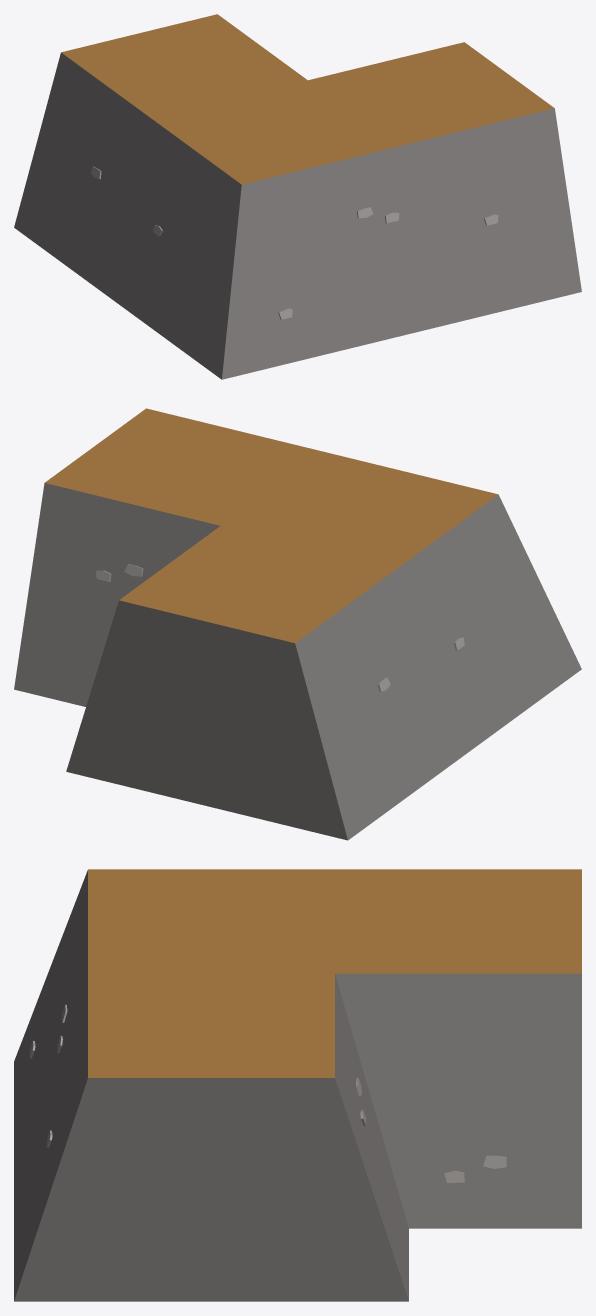
The model's file is base-japan-edge-medium.glb.
The picture shows the model from 3 angles, top to bottom: view 1: azimuth 30°, elevation 25°; view 2: azimuth 150°, elevation 25°; view 3: azimuth 270°, elevation 25°; orthographic projection. The views are drawn at different scales.
Parts seen in each view (by area): view 1: base-japan-edge_medium; view 2: base-japan-edge_medium; view 3: base-japan-edge_medium.
Boxes of the visible parts, x1=… form: base-japan-edge_medium: x1=14, y1=14, x2=581, y2=379; base-japan-edge_medium: x1=14, y1=408, x2=581, y2=840; base-japan-edge_medium: x1=14, y1=869, x2=581, y2=1301.
Bounding box in the file's own units: 23 × 10 × 23.
1 material, 1 textured.
